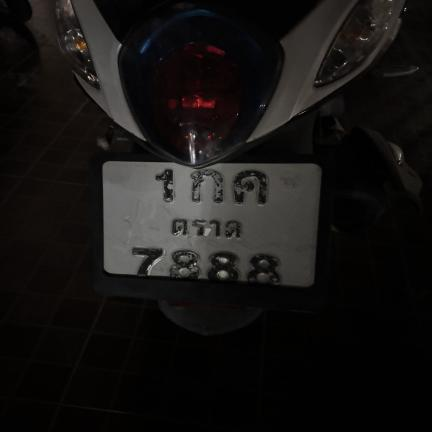1: (153, 168, 175, 202)
7: (130, 245, 166, 278)
8: (245, 252, 283, 286), (169, 247, 201, 280), (207, 251, 240, 282)
A01: (190, 169, 225, 204)
A04: (232, 168, 271, 207)
TRT: (168, 217, 244, 242)
